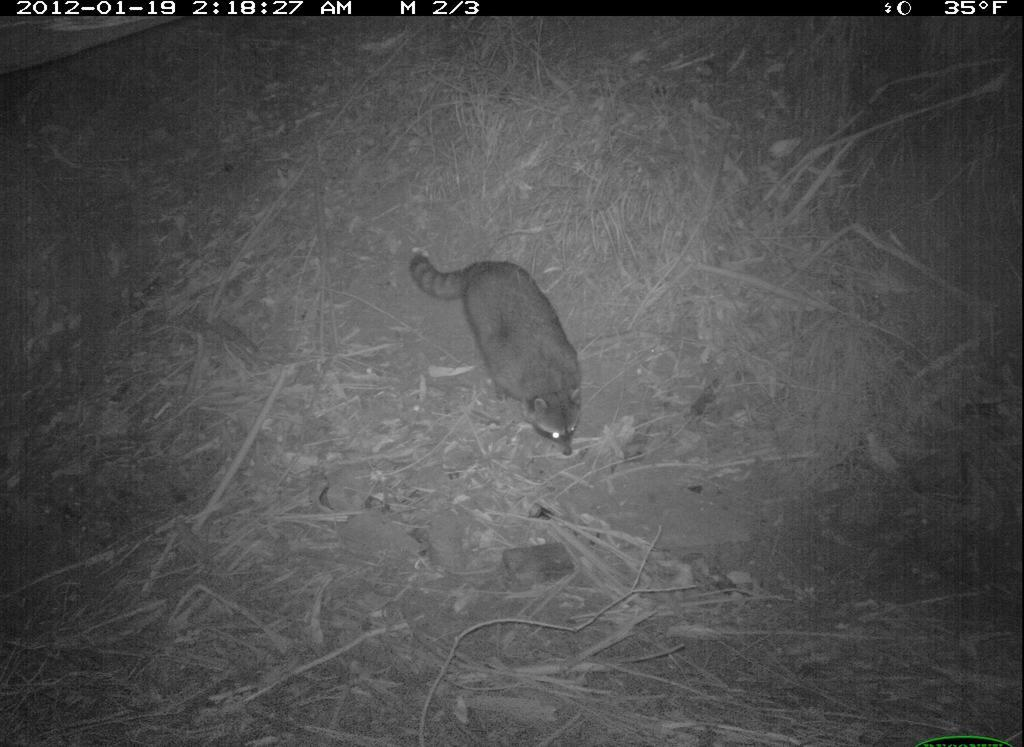raccoon: (404, 233, 610, 469)
